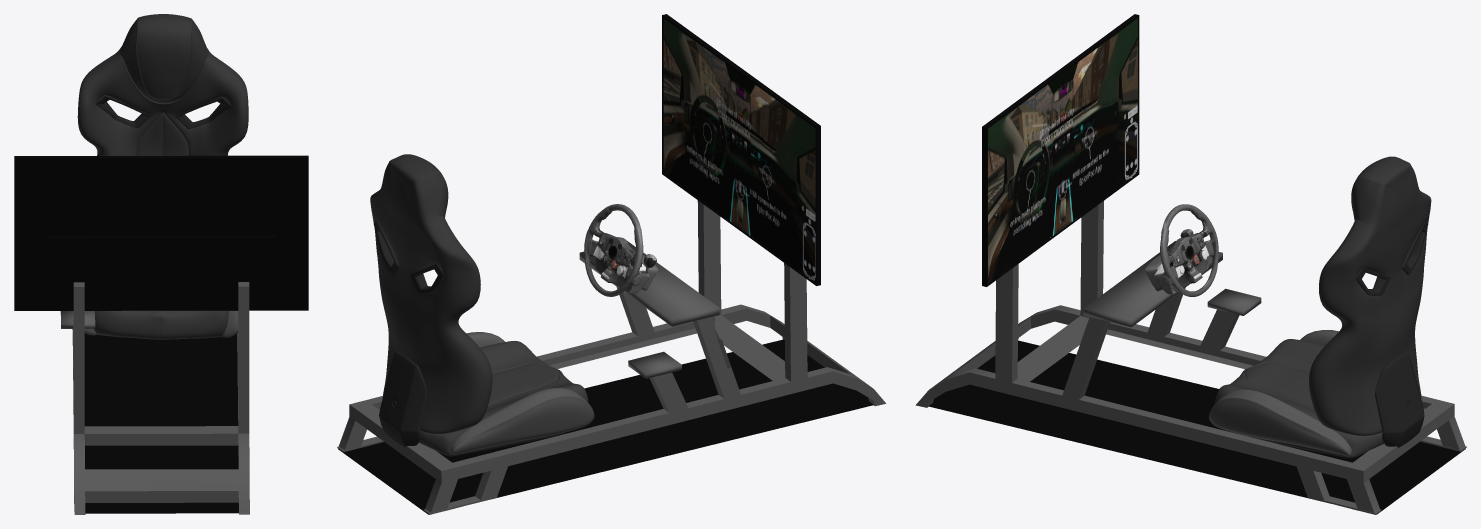
The model's file is steeringEN.glb.
The picture shows the model from 3 angles, left to right: view 1: azimuth 30°, elevation 25°; view 2: azimuth 150°, elevation 25°; view 3: azimuth 270°, elevation 25°; orthographic projection. The views are drawn at different scales.
Parts seen in each view (by area): view 1: tv, chair, Plane, Cube.010, Cube, Cube.009; view 2: chair, tv, Cube, Plane, Object_4, Cube.008, Cube.009; view 3: chair, Cube, tv, Plane, Object_4, Cube.008, Cube.009.
Boxes of the visible parts, x1,y1,x2,y2 form: tv: [14, 155, 308, 310]; chair: [77, 14, 248, 339]; Plane: [84, 333, 238, 513]; Cube.010: [47, 235, 275, 299]; Cube: [72, 282, 249, 514]; Cube.009: [60, 311, 95, 328]; chair: [370, 154, 594, 456]; tv: [662, 14, 820, 285]; Cube: [337, 200, 885, 514]; Plane: [338, 339, 873, 514]; Object_4: [584, 204, 657, 296]; Cube.008: [579, 241, 719, 326]; Cube.009: [628, 351, 681, 378]; chair: [1209, 156, 1431, 457]; Cube: [915, 201, 1466, 514]; tv: [982, 14, 1139, 286]; Plane: [928, 340, 1465, 514]; Object_4: [1145, 204, 1218, 296]; Cube.008: [1083, 241, 1222, 327]; Cube.009: [1207, 288, 1261, 315].
Bounding box in the file's own units: 0.2437 × 0.2071 × 0.3185.
Materials: 9 (2 with a texture image).
